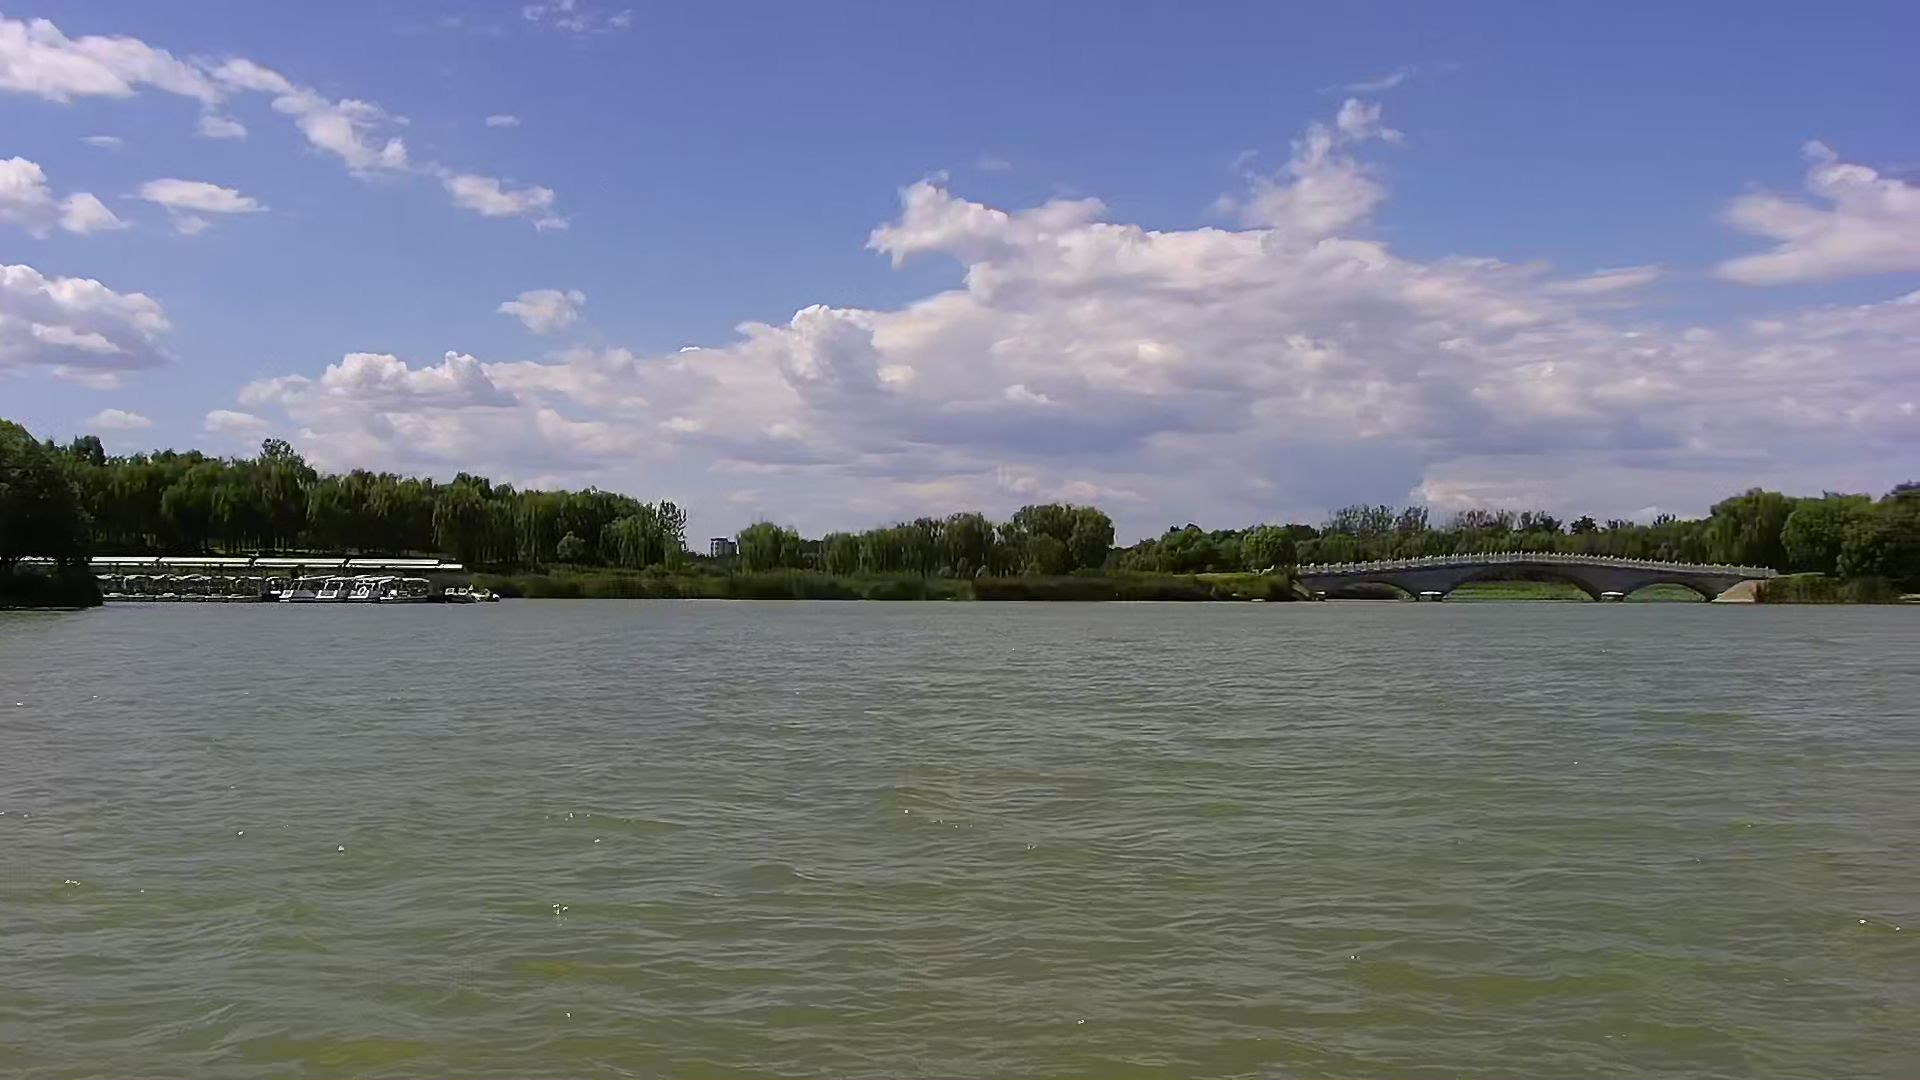bridge: (1282, 553, 1778, 601)
harbor: (83, 558, 492, 608)
